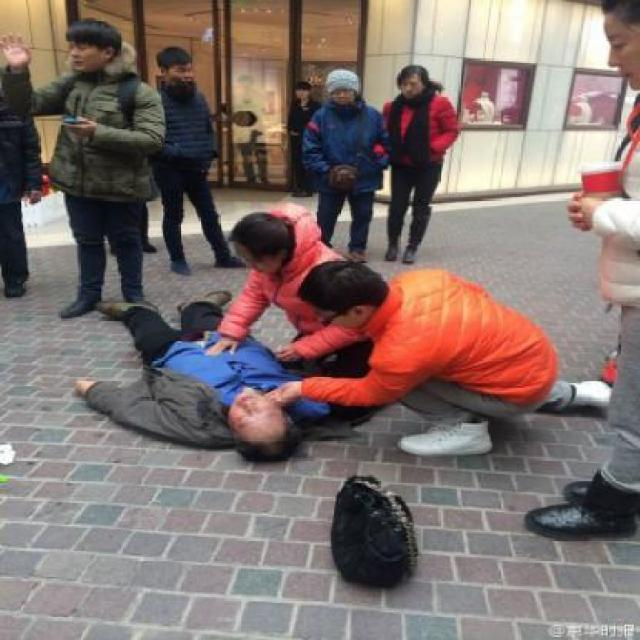fall: (57, 282, 328, 469)
